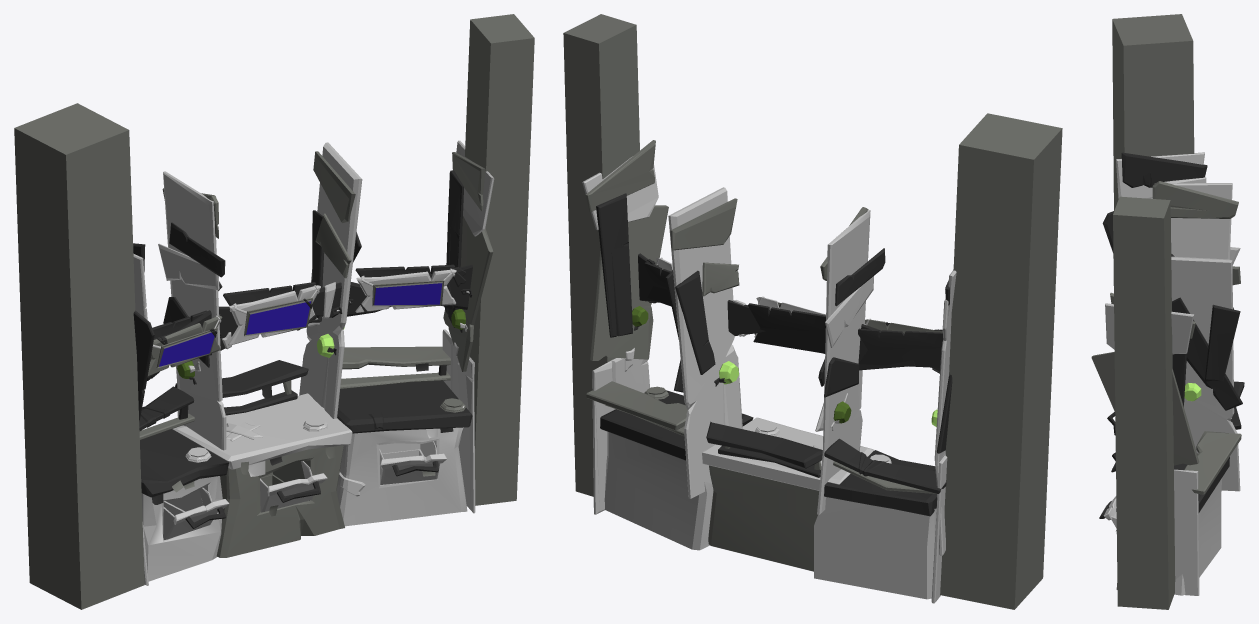
File: SM_ComptoirClients_01.fbx
3 renders of one model, left to right at view 1: azimuth 30°, elevation 25°; view 2: azimuth 150°, elevation 25°; view 3: azimuth 270°, elevation 25°, orthographic. The views are drawn at different scales.
Parts seen in each view (by area): view 1: SM_ComptoirClients_01, SM_ComptoirClients_Drawer_2, SM_ComptoirClients_Drawer_3, SM_ComptoirClients_Drawer_1; view 2: SM_ComptoirClients_01; view 3: SM_ComptoirClients_01, SM_ComptoirClients_Drawer_3.
Part boxes in pixels (bbox=[...]): SM_ComptoirClients_01: bbox=[14, 14, 534, 609]; SM_ComptoirClients_Drawer_2: bbox=[260, 461, 327, 516]; SM_ComptoirClients_Drawer_3: bbox=[379, 441, 446, 484]; SM_ComptoirClients_Drawer_1: bbox=[163, 487, 229, 539]; SM_ComptoirClients_01: bbox=[563, 14, 1062, 609]; SM_ComptoirClients_01: bbox=[1091, 14, 1244, 609]; SM_ComptoirClients_Drawer_3: bbox=[1099, 496, 1116, 530].
Size of the model in its own units: 518 by 470 by 163.
